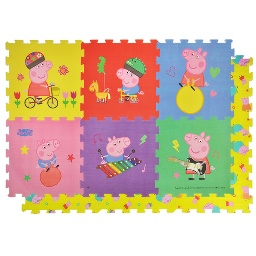Peppa: (25, 52, 54, 106), (183, 130, 212, 182), (177, 46, 207, 93)
